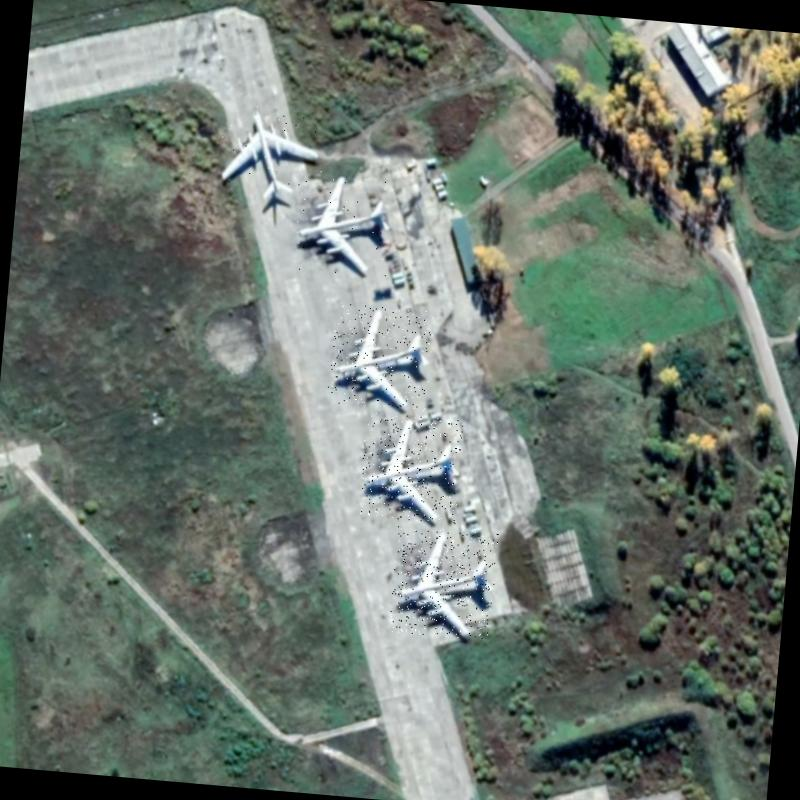A17: (388, 526, 498, 640), (358, 412, 465, 524), (326, 303, 435, 411), (292, 170, 394, 278), (217, 104, 323, 202)
